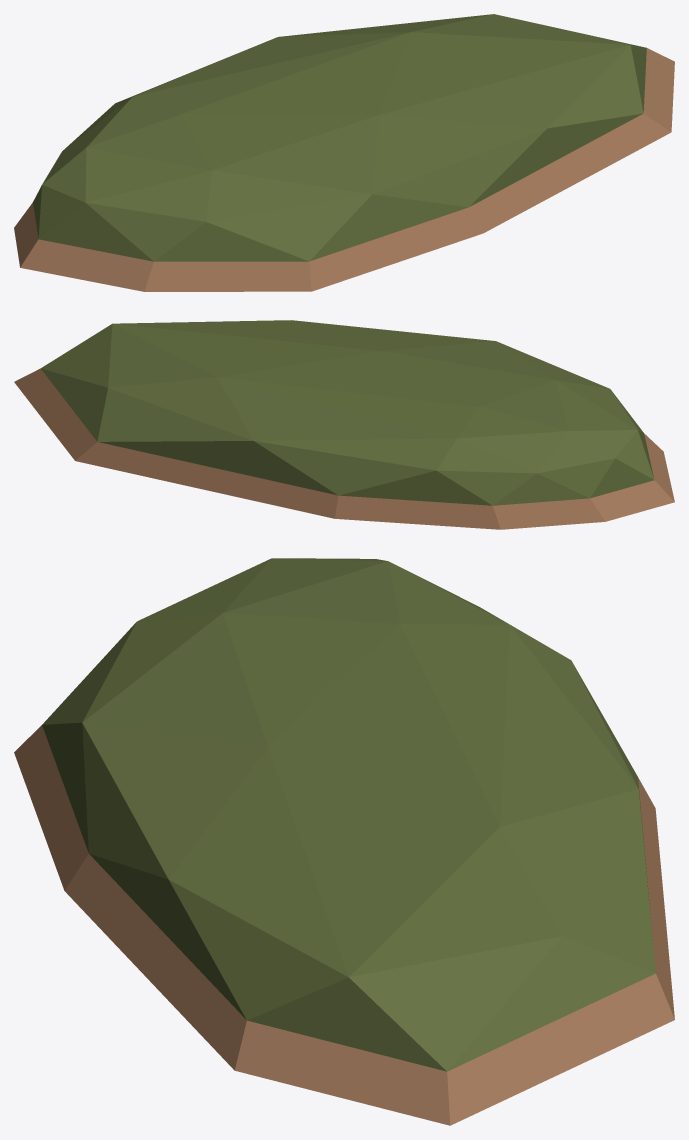
The model's file is 2_2 Dirt_3.fbx.
3 views of the same model, one above another, from view 1: azimuth 30°, elevation 25°; view 2: azimuth 150°, elevation 25°; view 3: azimuth 270°, elevation 25° (orthographic). The views are drawn at different scales.
Parts seen in each view (by area): view 1: Dirt_3; view 2: Dirt_3; view 3: Dirt_3.
Part boxes in pixels (x1,y1,x2,y2): Dirt_3: (14, 14, 674, 291); Dirt_3: (14, 320, 674, 529); Dirt_3: (14, 558, 674, 1125).
Bounding box in the file's own units: 4099 × 469 × 2219.
